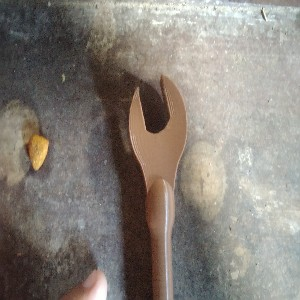spanner: (128, 75, 188, 300)
